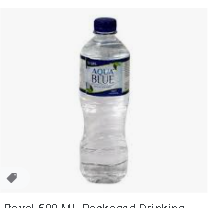Bottle: (80, 19, 128, 183)
